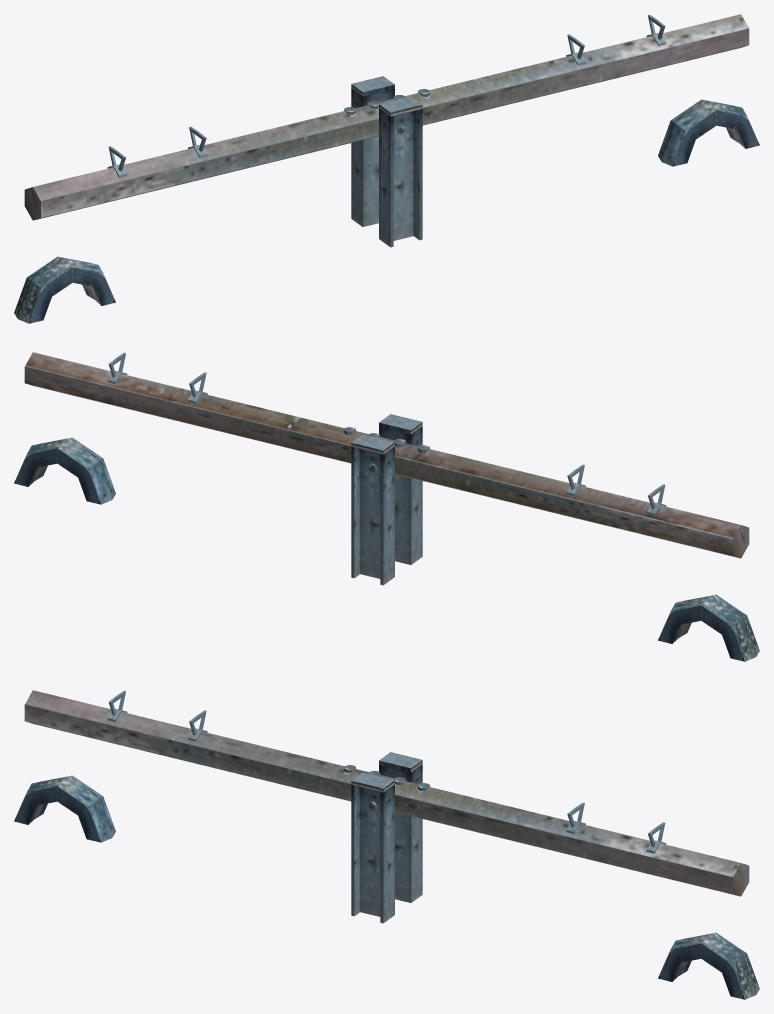
The model's file is Seesaw01.obj.
3 views of the same model, one above another, from view 1: azimuth 30°, elevation 25°; view 2: azimuth 150°, elevation 25°; view 3: azimuth 330°, elevation 25° (orthographic).
Visible parts, largest first — view 1: Seesaw01.Log, Seesaw01.Base; view 2: Seesaw01.Log, Seesaw01.Base; view 3: Seesaw01.Log, Seesaw01.Base.
Boxes of the visible parts, x1,y1,x2,y2 form: Seesaw01.Log: [24, 14, 749, 220]; Seesaw01.Base: [14, 76, 759, 323]; Seesaw01.Log: [24, 352, 749, 558]; Seesaw01.Base: [14, 414, 759, 661]; Seesaw01.Log: [24, 690, 749, 896]; Seesaw01.Base: [14, 752, 759, 999].
Size of the model in its own units: 9.17 by 1.7 by 0.8464.
